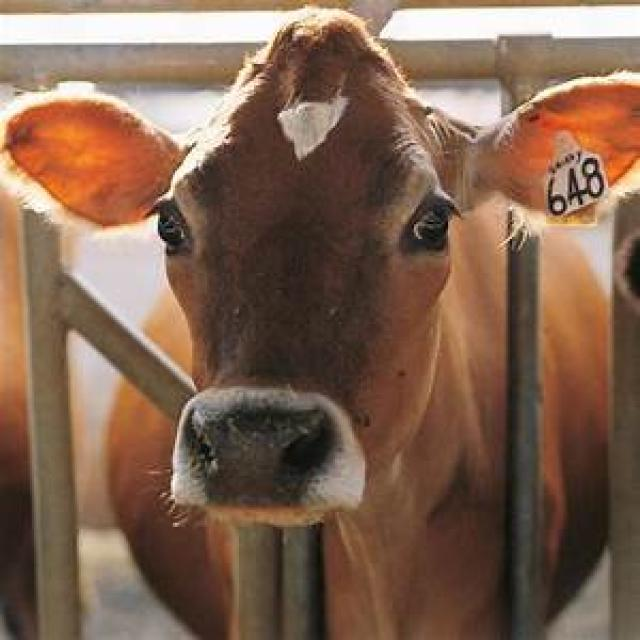cow: (4, 9, 640, 640)
